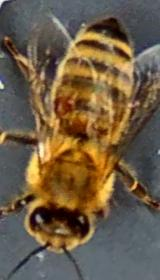varroa_mite: (49, 91, 74, 119)
